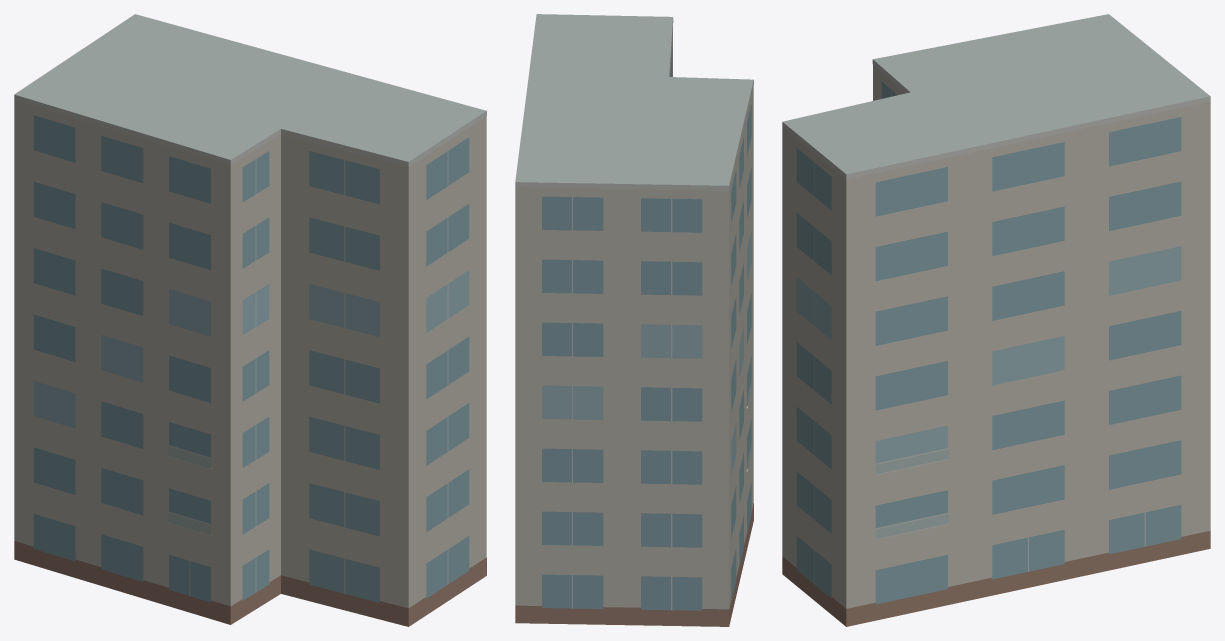
The model's file is survey-upis-32942633.glb.
The picture shows the model from 3 angles, left to right: view 1: azimuth 30°, elevation 25°; view 2: azimuth 150°, elevation 25°; view 3: azimuth 270°, elevation 25°; orthographic projection. The views are drawn at different scales.
Parts seen in each view (by area): view 1: survey-upis-32942633.tmp; view 2: survey-upis-32942633.tmp; view 3: survey-upis-32942633.tmp.
Boxes of the visible parts, x1,y1,x2,y2 form: survey-upis-32942633.tmp: (14, 14, 486, 626); survey-upis-32942633.tmp: (515, 14, 753, 626); survey-upis-32942633.tmp: (782, 14, 1210, 626).
Bounding box in the file's own units: 16.58 × 21.8 × 18.71.
